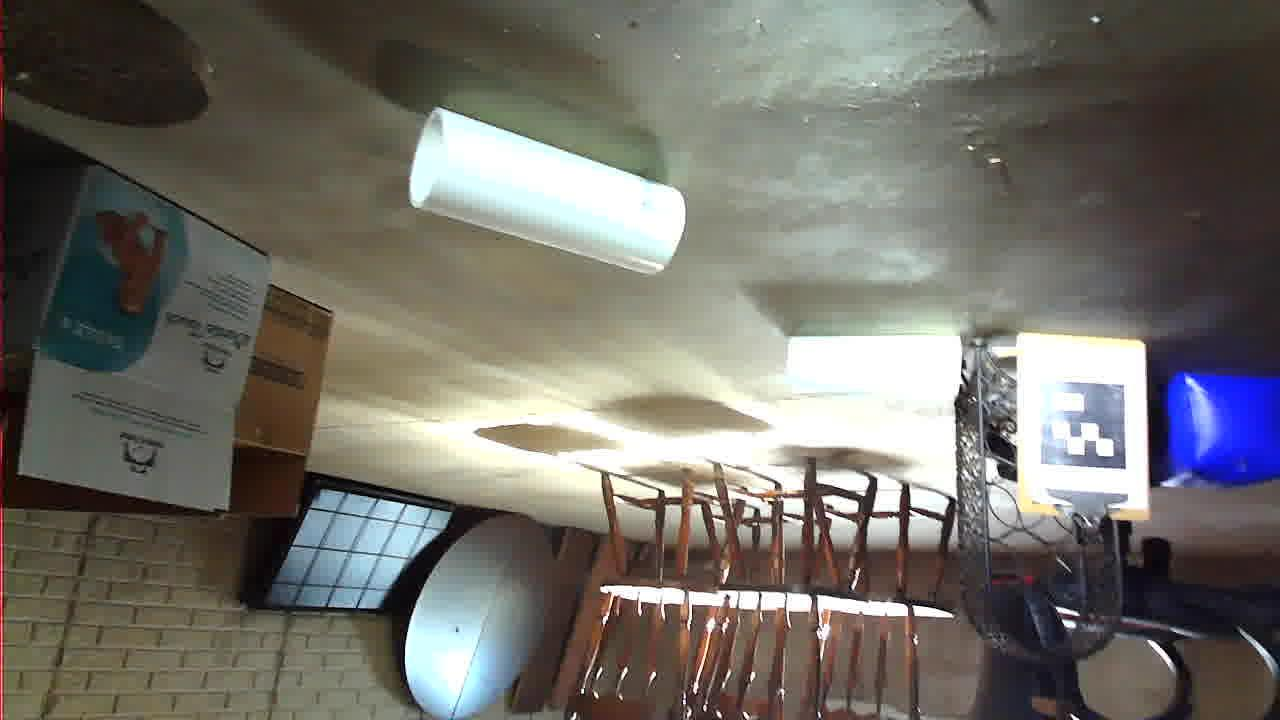coral: (594, 445, 872, 615), (320, 328, 495, 385)
